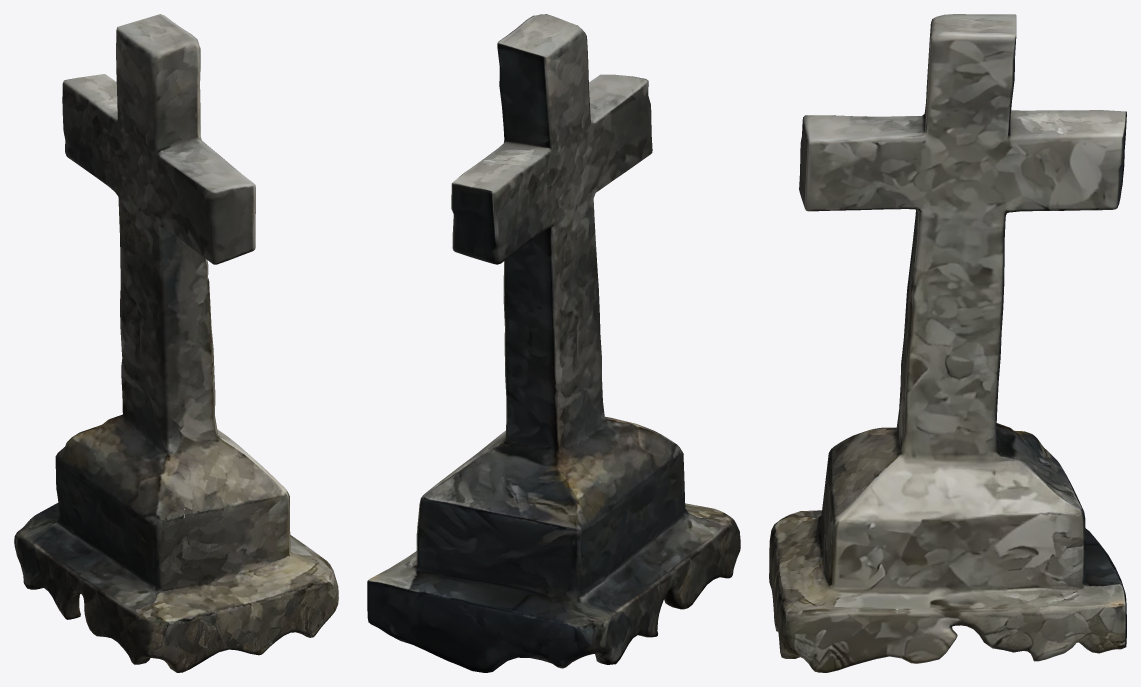
Rendered from site-cemetery.glb.
The picture shows the model from 3 angles, left to right: view 1: azimuth 30°, elevation 25°; view 2: azimuth 150°, elevation 25°; view 3: azimuth 270°, elevation 25°; orthographic projection. The views are drawn at different scales.
Visible parts, largest first — view 1: site-cemetery; view 2: site-cemetery; view 3: site-cemetery.
Part boxes in pixels (box(x1,y1,x2,y2)): site-cemetery: box(14, 14, 338, 672); site-cemetery: box(367, 14, 740, 672); site-cemetery: box(769, 14, 1126, 672).
Size of the model in its own units: 0.3784 by 0.9995 by 0.5356.
Materials: 1 (1 with a texture image).
